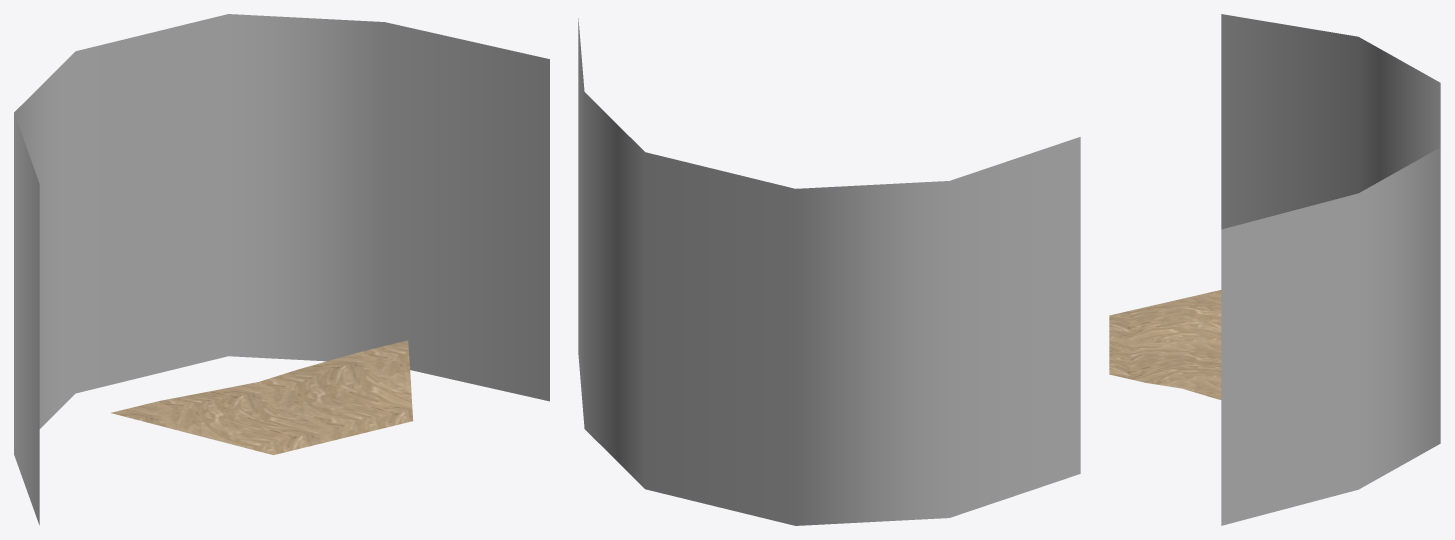
The model's file is SkyBeach_Final.fbx.
3 views of the same model, side by side, from view 1: azimuth 30°, elevation 25°; view 2: azimuth 150°, elevation 25°; view 3: azimuth 270°, elevation 25° (orthographic). The views are drawn at different scales.
Visible parts, largest first — view 1: pPlane1, beach; view 2: pPlane1; view 3: pPlane1, beach.
Boxes of the visible parts, left/top/right/bottom form: pPlane1: left=14, top=14, right=549, bottom=525; beach: left=111, top=340, right=413, bottom=455; pPlane1: left=578, top=18, right=1080, bottom=525; pPlane1: left=1221, top=14, right=1440, bottom=525; beach: left=1109, top=290, right=1221, bottom=399.
Size of the model in its own units: 56.17 by 36 by 36.46.
